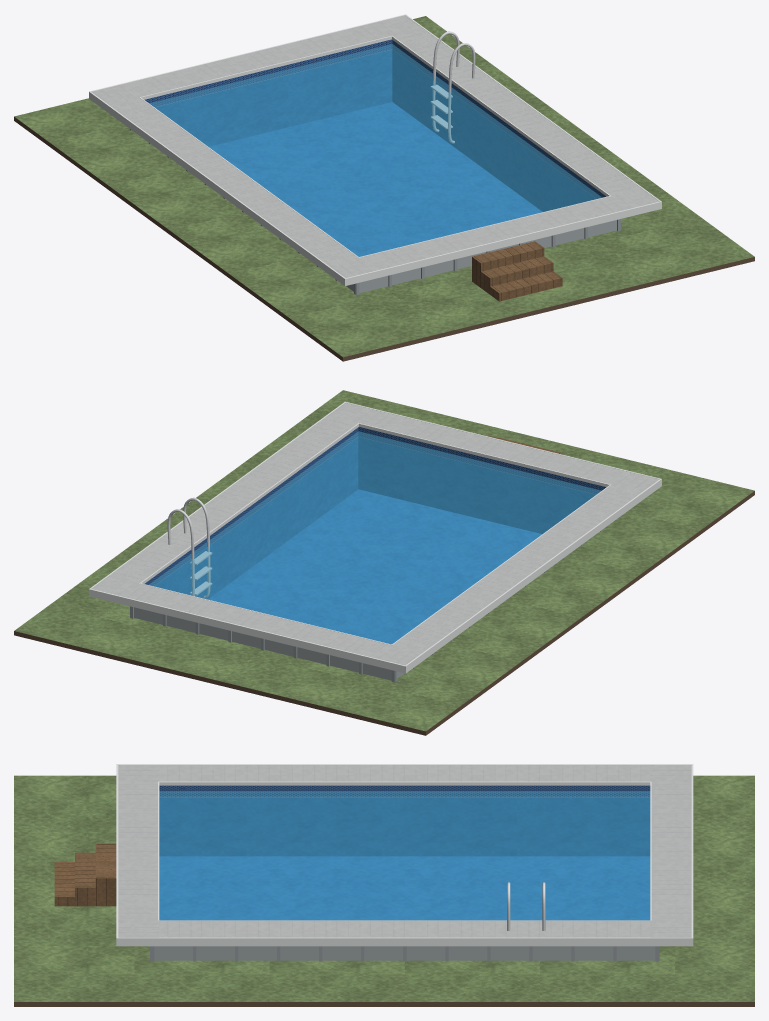
The model's file is kayak-pool-16x24-gray-walk-rec-nofence.f0c74b8e21.glb.
3 renders of one model, top to bottom at view 1: azimuth 30°, elevation 25°; view 2: azimuth 150°, elevation 25°; view 3: azimuth 270°, elevation 25°, orthographic. The views are drawn at different scales.
Parts seen in each view (by area): view 1: water, ground, liner_floor, liner_wall, deck, fascia, steps, soil, wall, steel; view 2: water, ground, liner_floor, liner_wall, deck, fascia, soil, wall, steel; view 3: water, ground, liner_wall, liner_floor, deck, fascia, wall, soil, steps, upright.
Part boxes in pixels (left/top/right/bottom): water: left=149, top=44, right=601, bottom=256; ground: left=14, top=16, right=754, bottom=357; liner_floor: left=209, top=102, right=542, bottom=256; liner_wall: left=144, top=39, right=605, bottom=211; deck: left=91, top=15, right=659, bottom=277; fascia: left=89, top=14, right=661, bottom=285; steps: left=472, top=241, right=562, bottom=301; soil: left=14, top=117, right=754, bottom=361; wall: left=346, top=220, right=616, bottom=293; steel: left=430, top=31, right=475, bottom=143; water: left=149, top=431, right=600, bottom=644; ground: left=14, top=390, right=754, bottom=731; liner_floor: left=208, top=489, right=541, bottom=644; liner_wall: left=145, top=427, right=606, bottom=599; deck: left=91, top=403, right=659, bottom=668; fascia: left=89, top=401, right=661, bottom=673; soil: left=14, top=491, right=754, bottom=735; wall: left=134, top=607, right=404, bottom=680; steel: left=167, top=497, right=212, bottom=598; water: left=159, top=791, right=650, bottom=920; ground: left=14, top=775, right=754, bottom=1001; liner_wall: left=159, top=785, right=650, bottom=856; liner_floor: left=159, top=856, right=650, bottom=920; deck: left=118, top=765, right=691, bottom=937; fascia: left=116, top=764, right=693, bottom=946; wall: left=154, top=946, right=655, bottom=960; soil: left=14, top=1002, right=754, bottom=1006; steps: left=54, top=843, right=116, bottom=906; upright: left=150, top=946, right=659, bottom=961.
Size of the model in its own units: 7.92 by 1.9 by 10.97.
12 materials, 5 textured.
